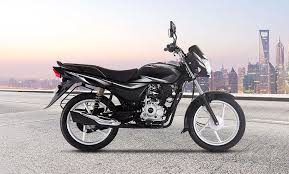bike: (50, 35, 250, 149)
